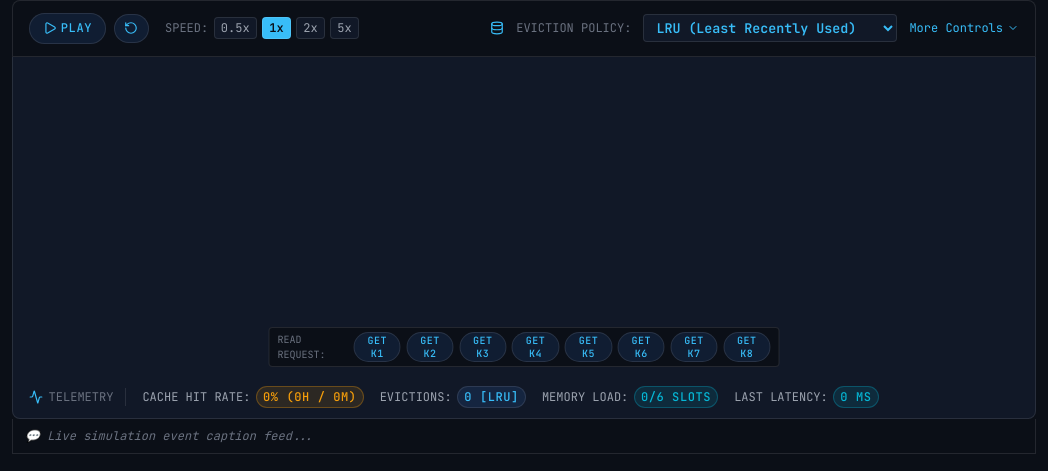
it: CachingVisualizer (Catalog #1) › allows requesting key and updating cache hit/miss stats
Click Get K1
What coordinates should you click on to do the following:
click the button "Get K1"
I would click on:
 (377, 347)
Its box is [354,332,401,362].
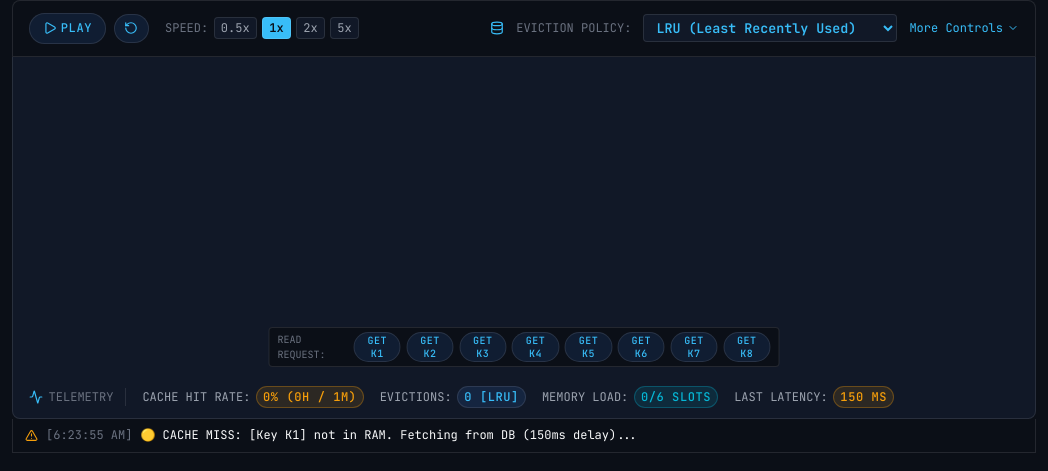
Expected: the text "0% (0H / 1M)" is shown, [256,386,364,408]
